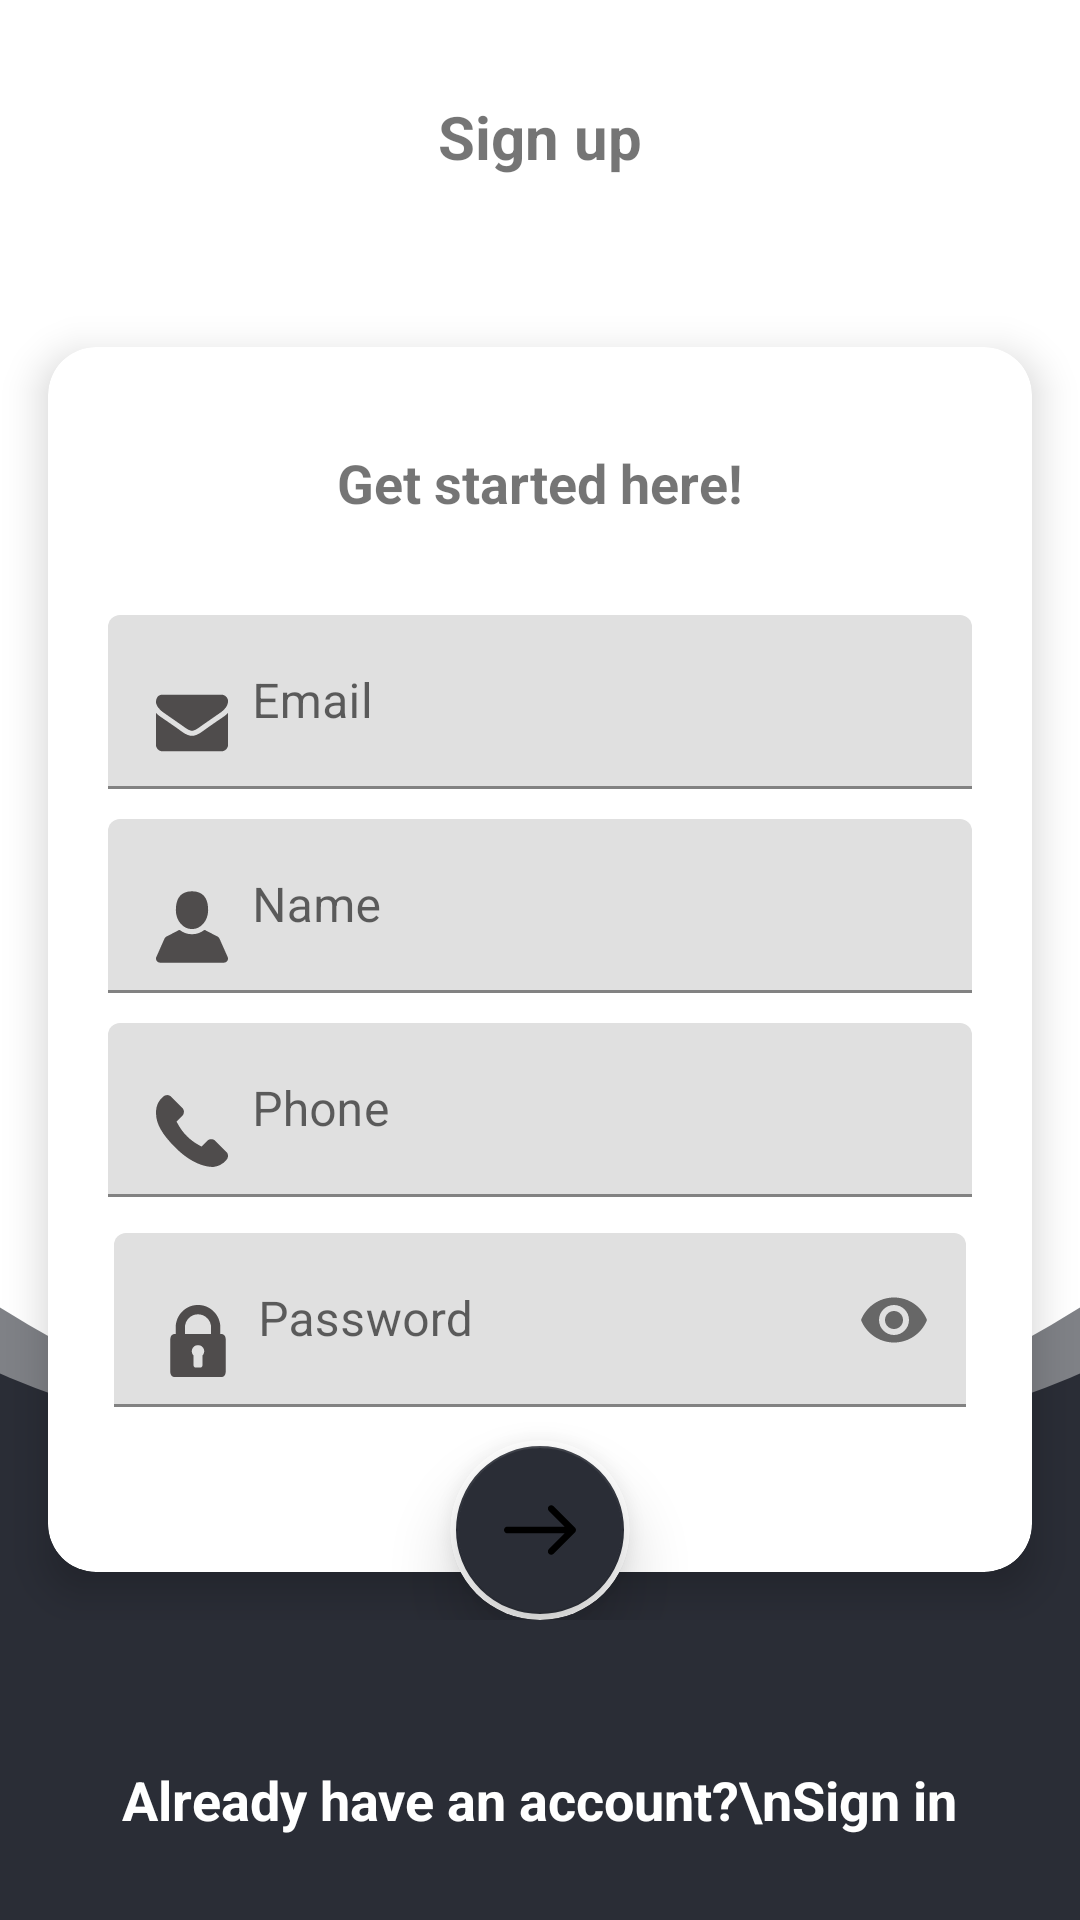

Icons on this 1080*1920 Android screen, each with the point to tap as (x=x, y=y):
arrow right: (x=540, y=1530)
